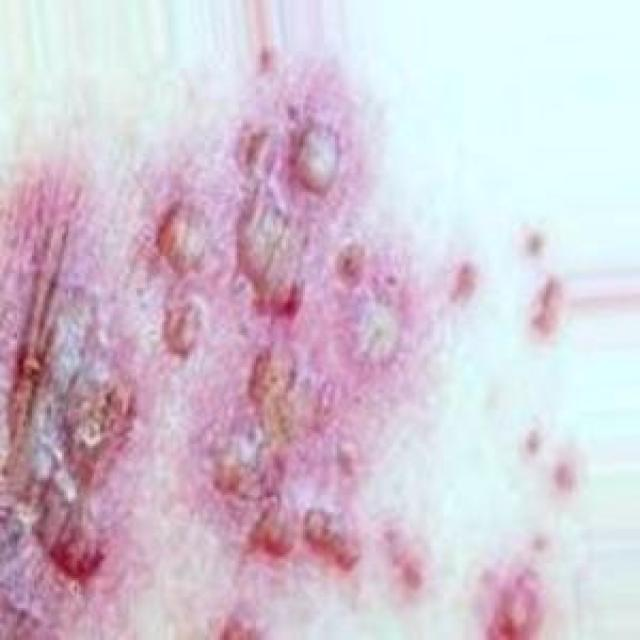Shingles: (0, 117, 392, 573)
